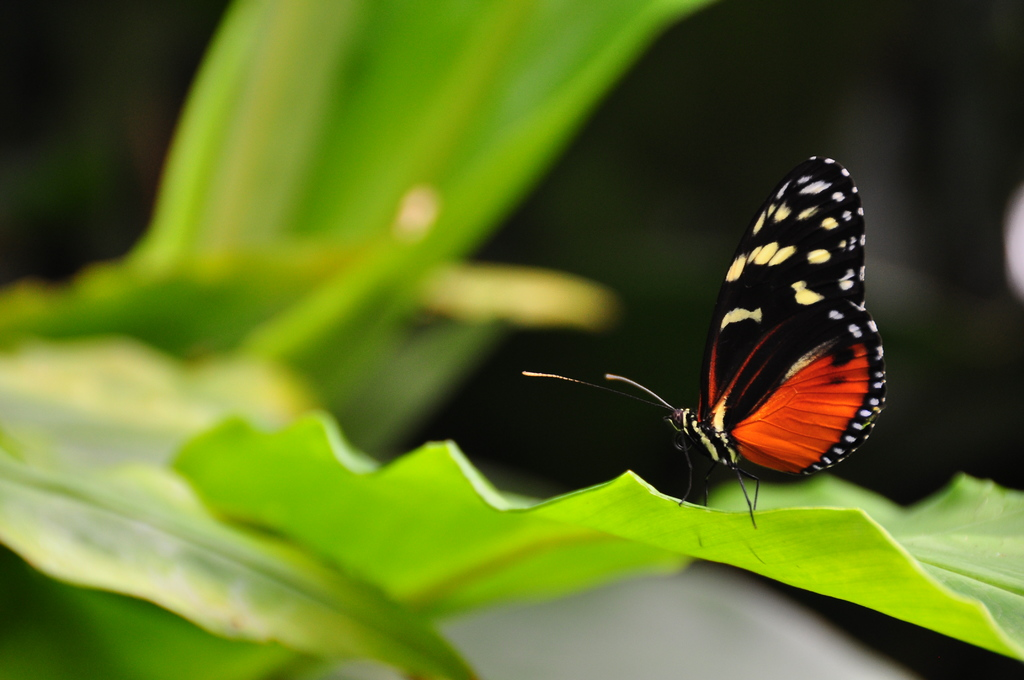Butterfly: (626, 113, 893, 508)
